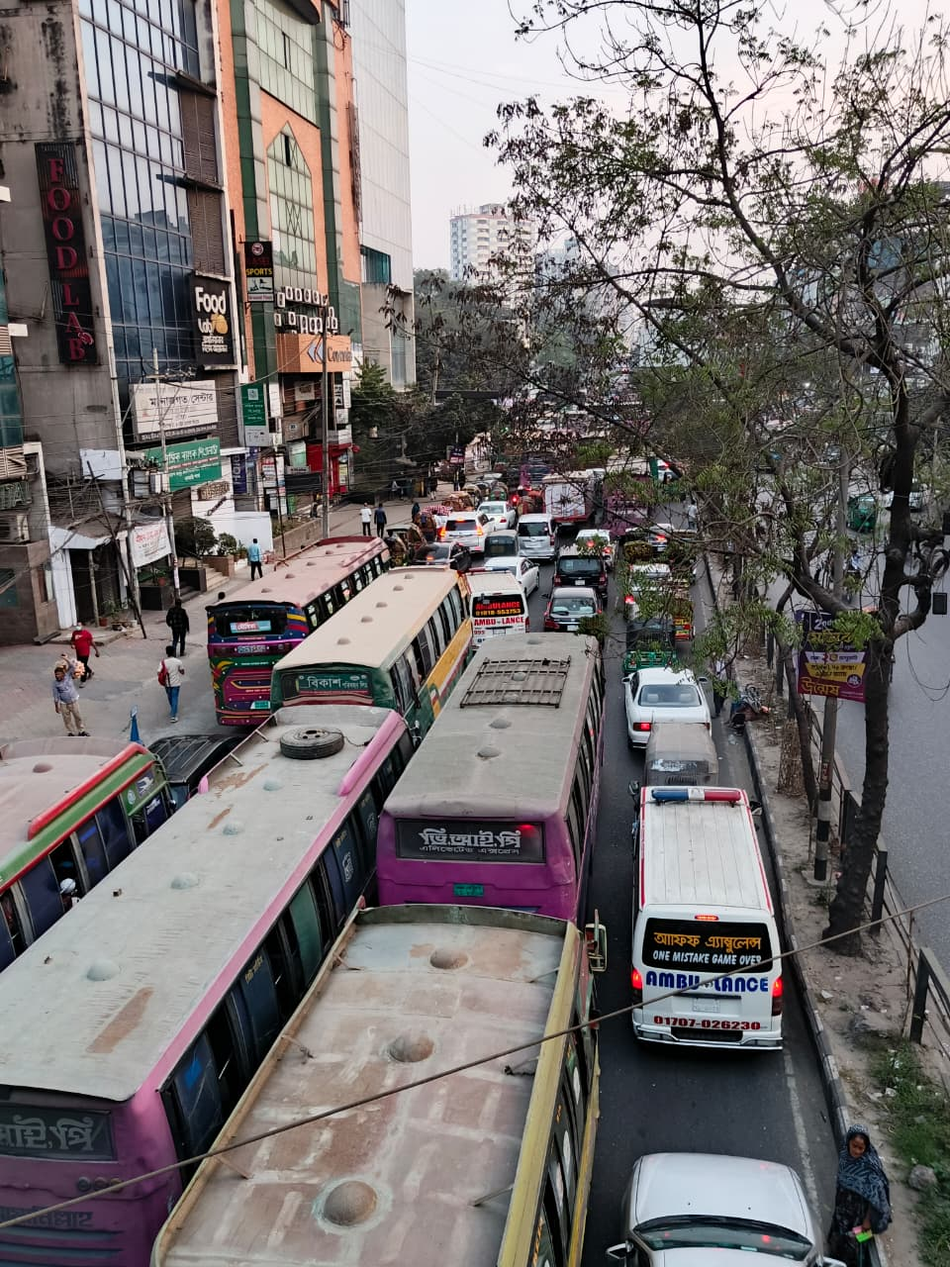Ambulance: (627, 770, 800, 1091), (462, 566, 534, 639)
Bus: (10, 552, 620, 1267)
private car: (620, 1130, 847, 1267), (610, 654, 717, 747), (544, 583, 606, 637)
